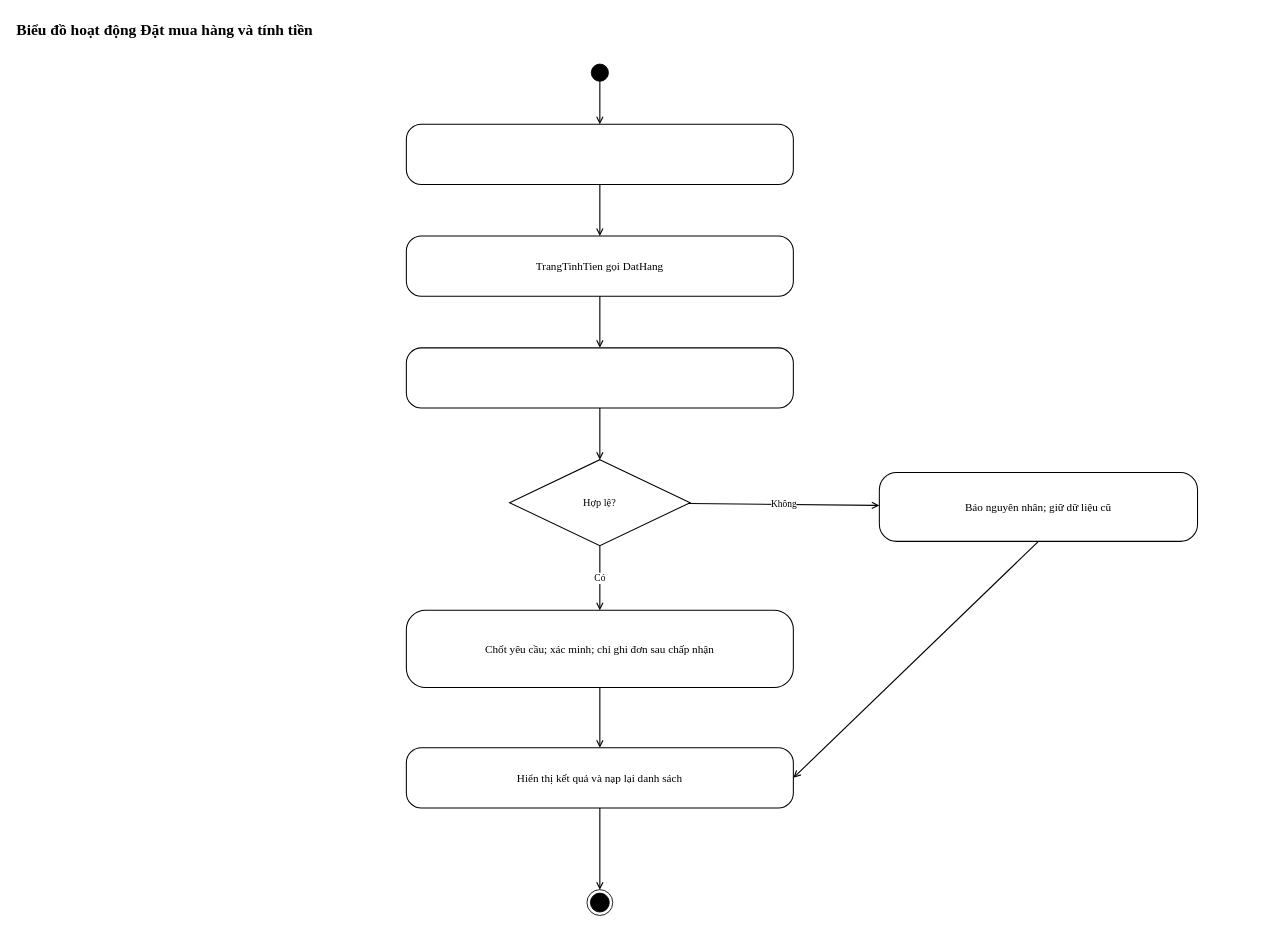
The diagram is 1276 pixels wide and 931 high, and some of its shapes have lost their labels. The centre of each missing label's shape, as x and y in pixels:
"Kiểm tra vai trò và điều kiện nghiệp vụ" goes at point (599, 377).
"Nhập dữ liệu cho Đặt mua hàng và tính tiền" goes at point (599, 154).
